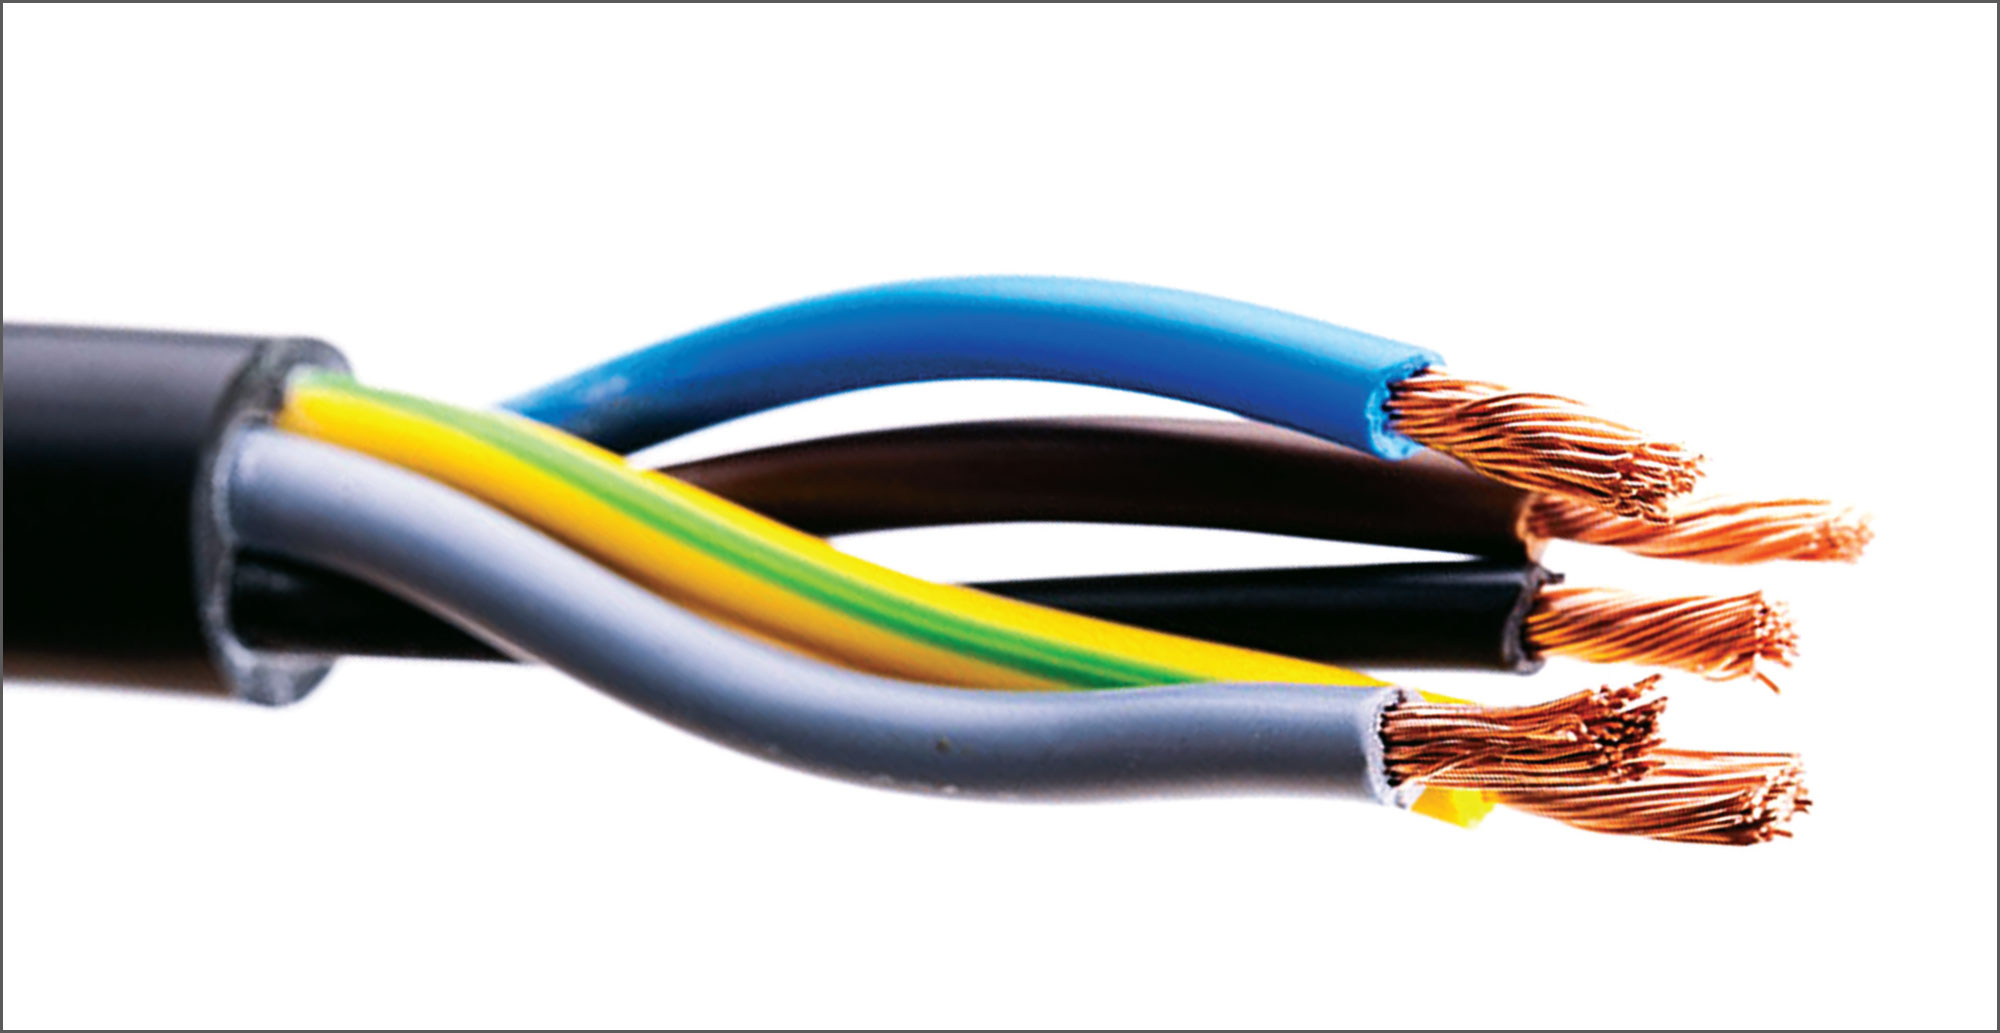Nonrec_Tangler: (1, 264, 1888, 859)
